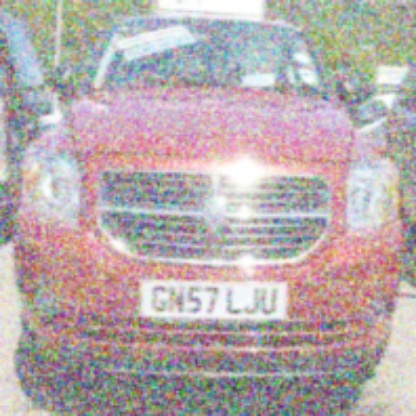Vehicle: (16, 18, 408, 384)
